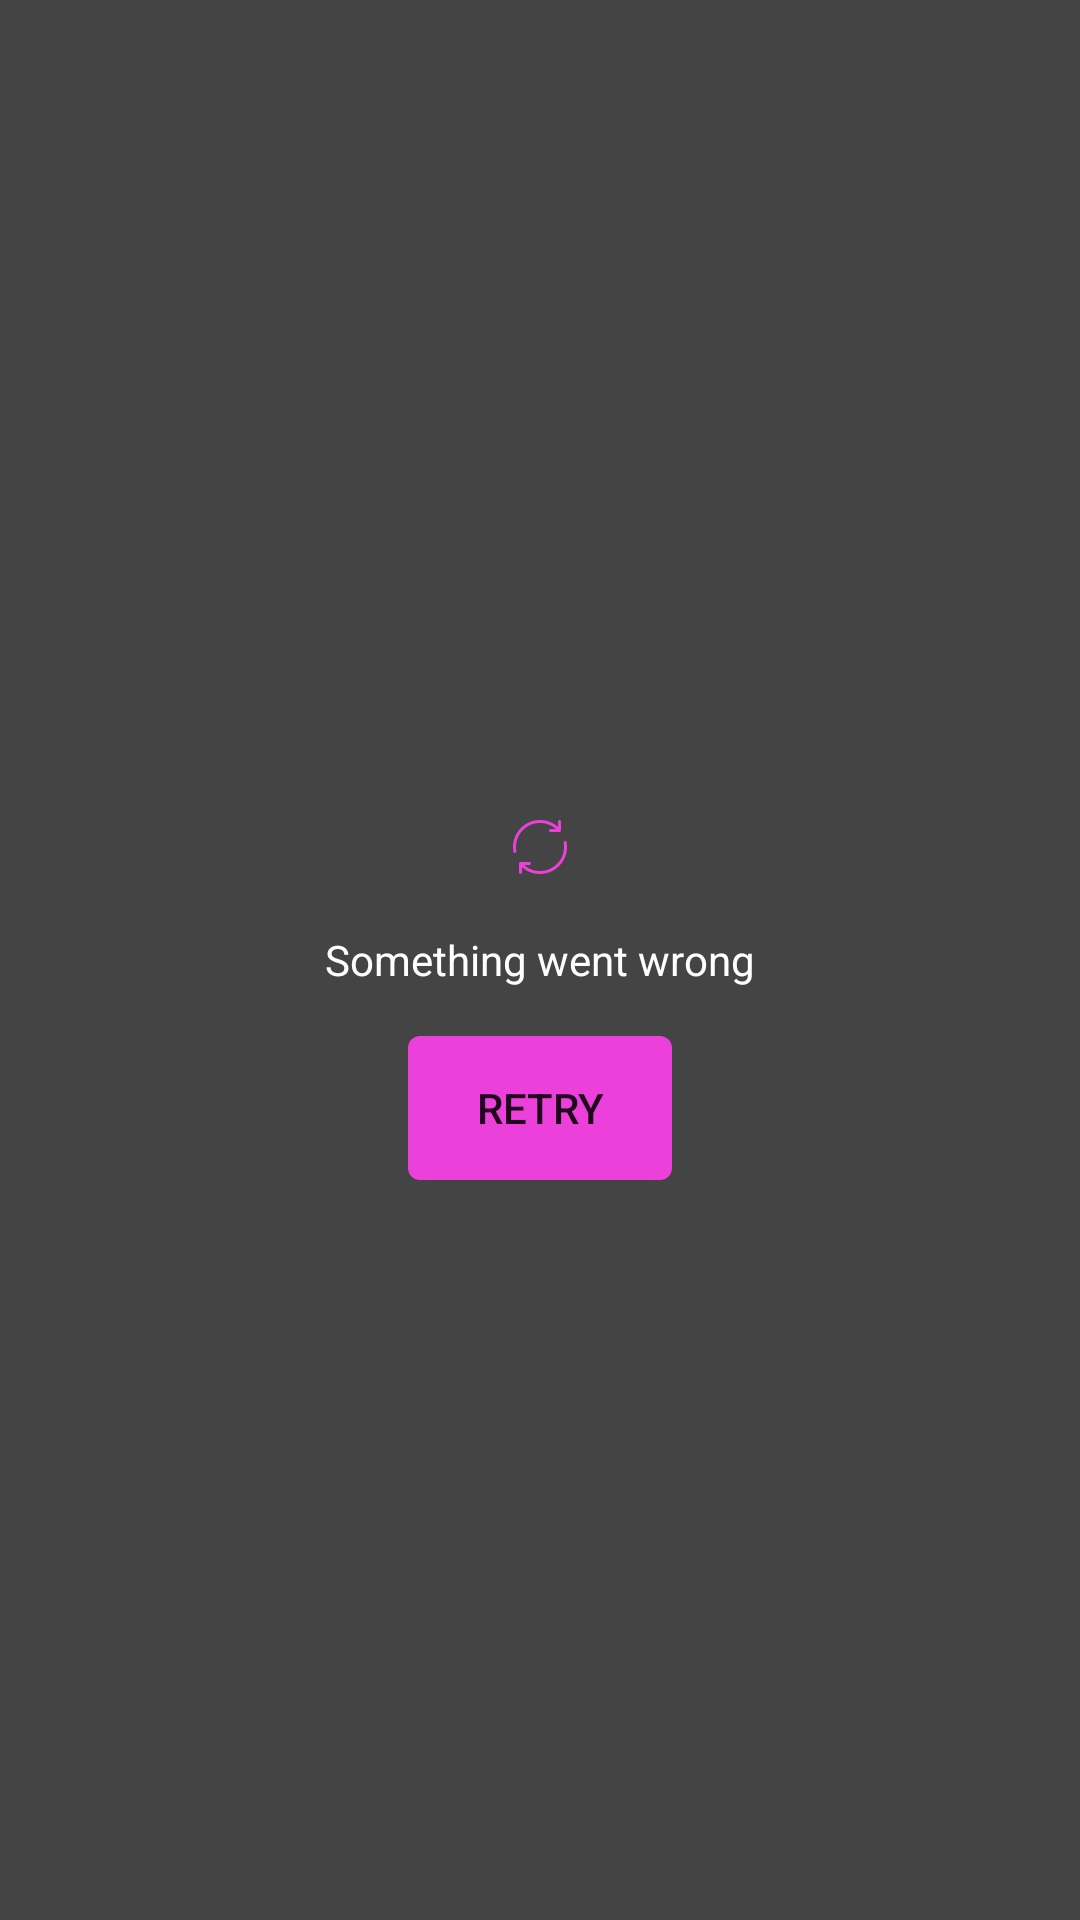

Screen size 1080px×1920px. Icon name, then its center in pixels as (x=x, y=y):
Retry: (x=540, y=847)
